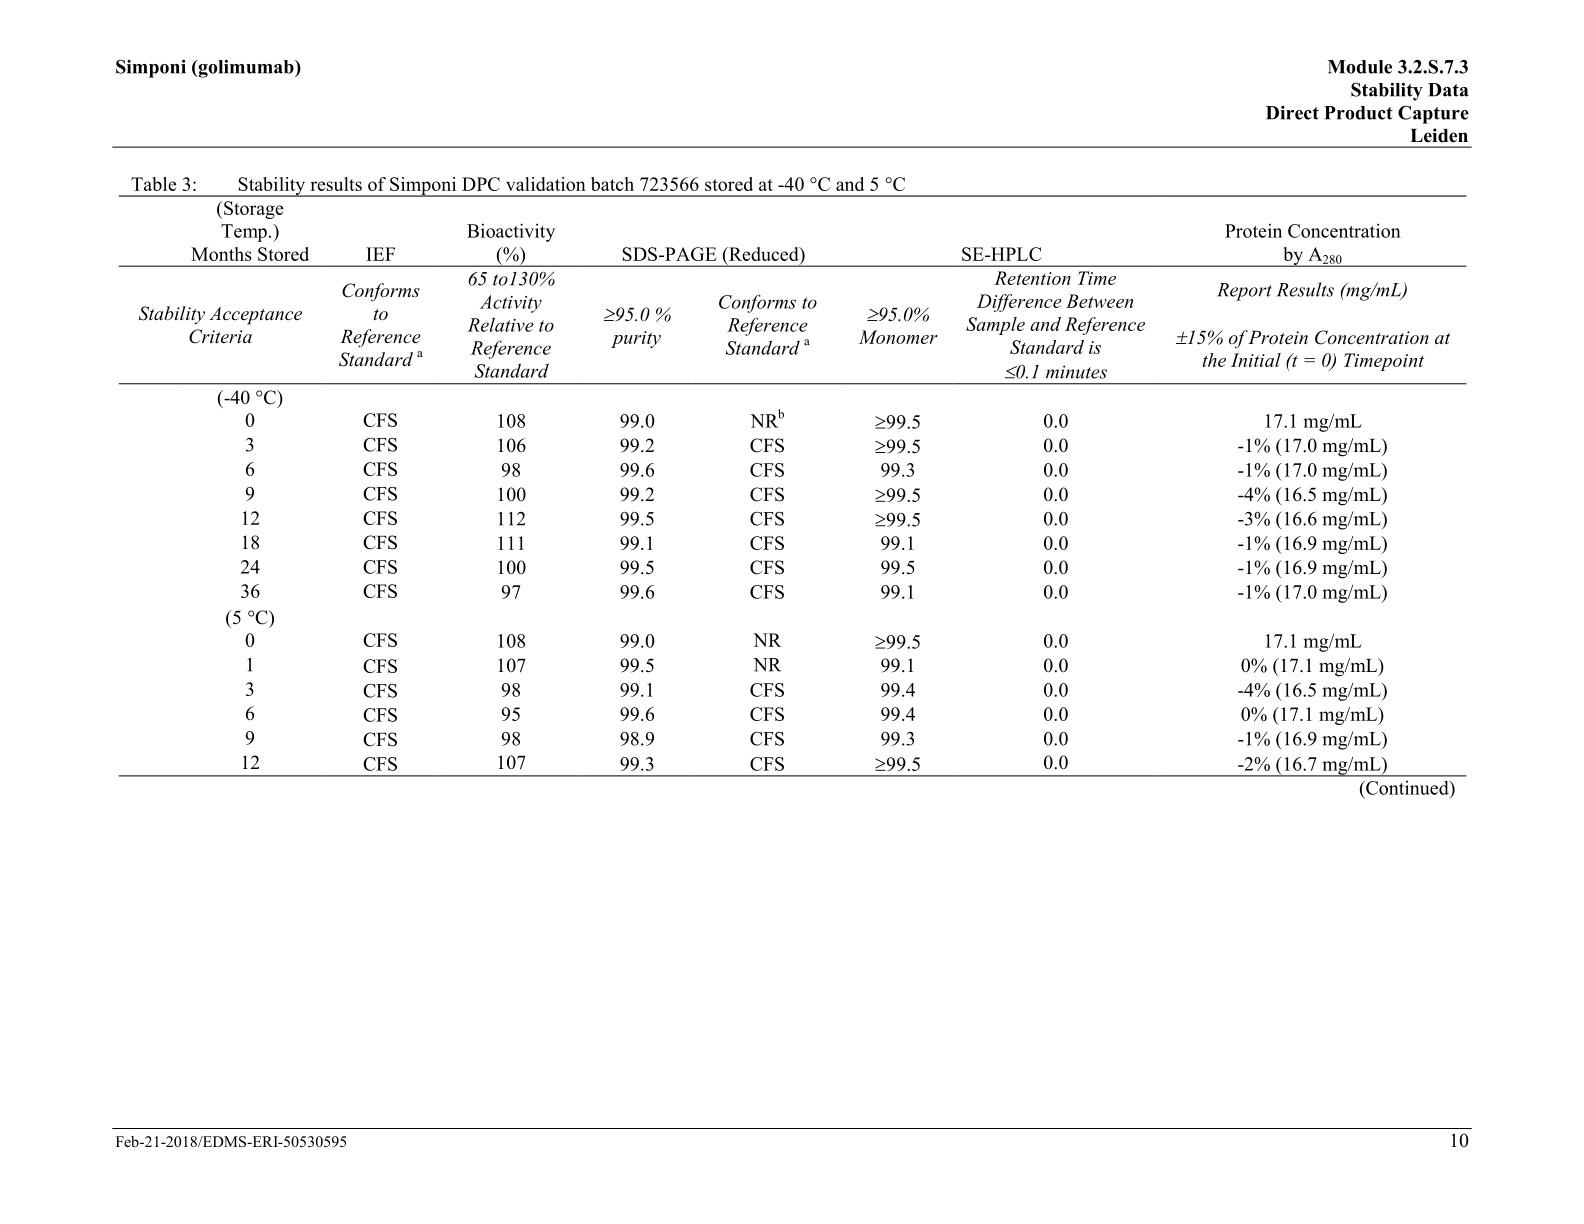partial_lined_merged_cells: (118, 194, 1468, 778)
